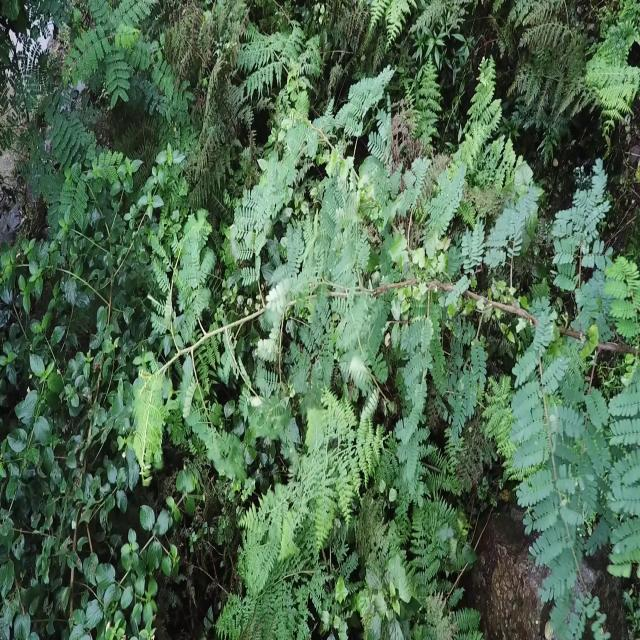Mysore-Thorn-Weed: (159, 82, 640, 445), (518, 332, 640, 620), (1, 0, 62, 161), (38, 113, 117, 232), (68, 0, 162, 100)
